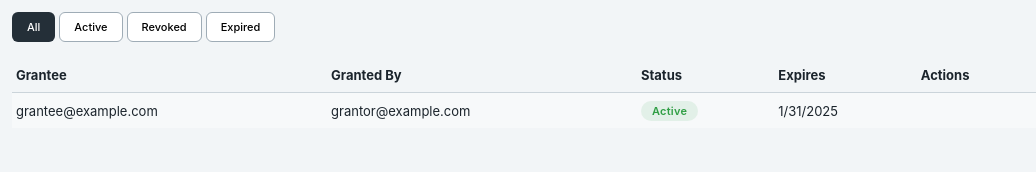
Test: EditGrantsList › Status filtering › should show empty state when filter matches no grants
Click the button with test id "filter-revoked": (164, 27) [126, 12, 202, 42]
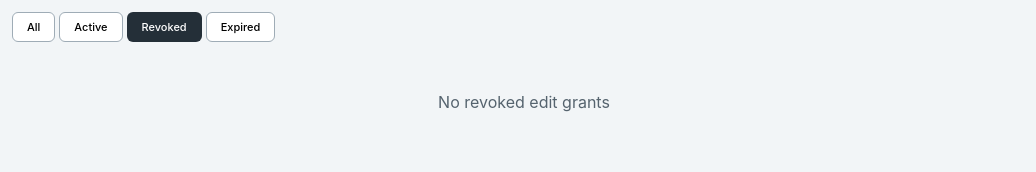
Now the text "No revoked edit grants" is shown, box [438, 90, 610, 116]
